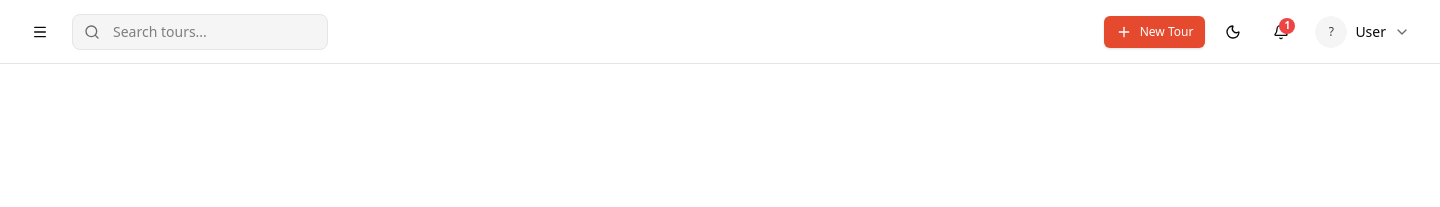
Test case: Header › notifications › renders incoming notifications with an unread badge
Click the button named "Notifications. 1 unread.".
click(1281, 32)  # box x1=1261 y1=12 x2=1301 y2=52
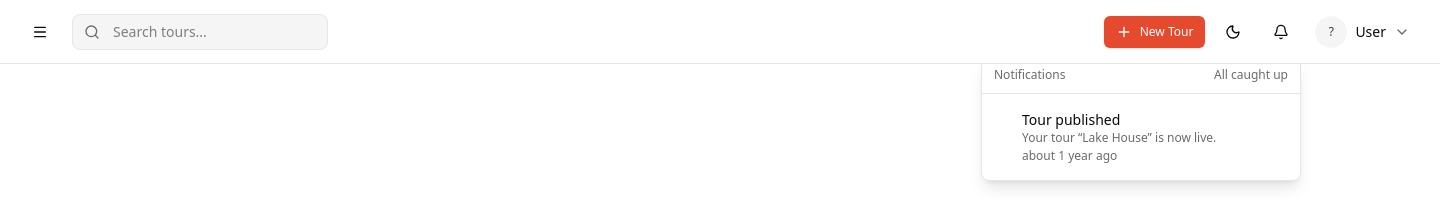
Check: the text "Tour published" is shown, box x1=1022 y1=110 x2=1120 y2=129
Check: the text "Your tour “Lake House” is now live." is shown, box x1=1022 y1=129 x2=1216 y2=146
Check: the element with test id "notification-list" is shown, box x1=1022 y1=110 x2=1216 y2=164
